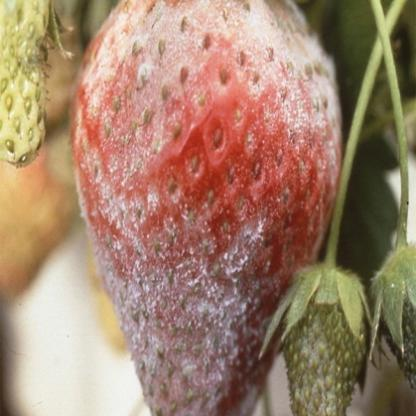Strawberry_Powdery_Mildew_Fruit: (69, 0, 344, 415), (256, 270, 368, 415)
